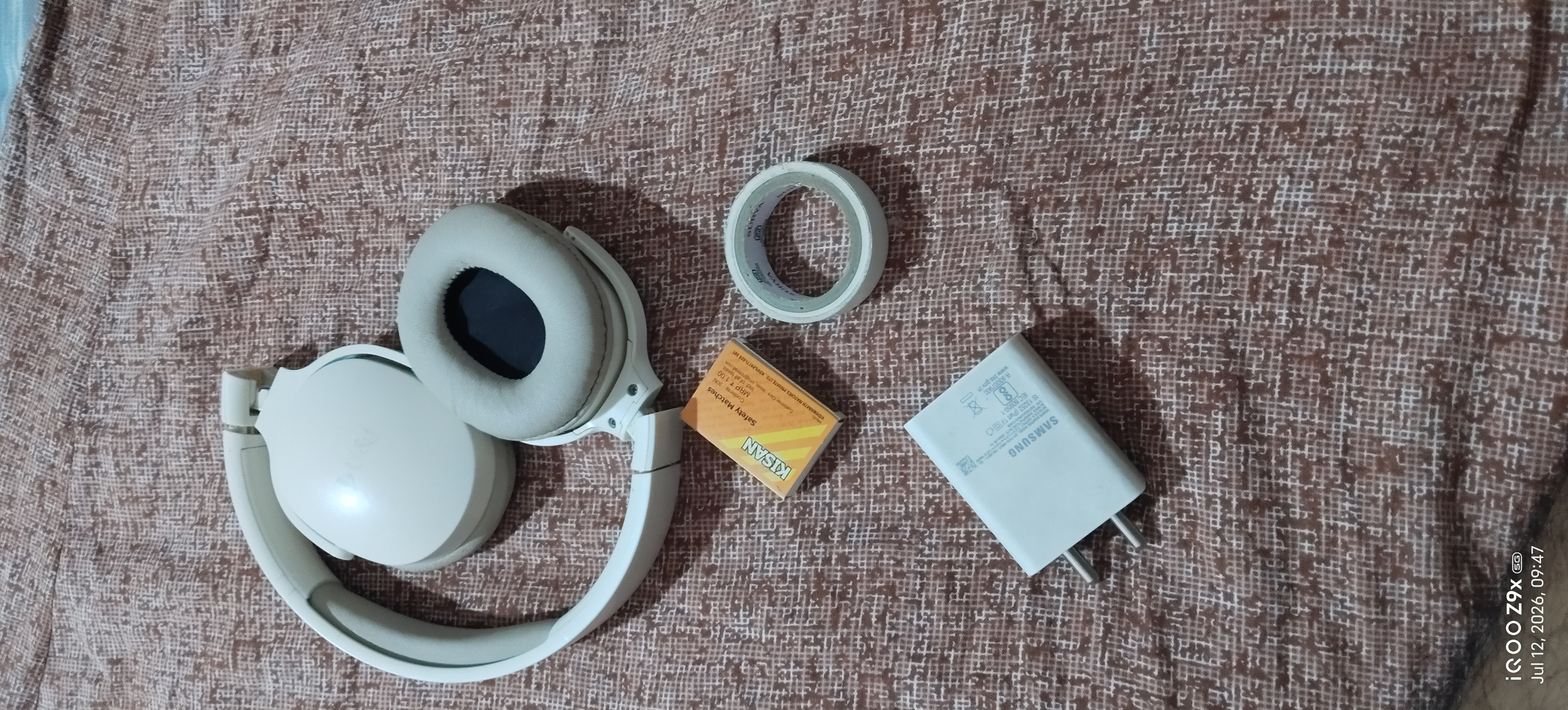charger: (900, 315, 1156, 611)
matchbox: (673, 322, 865, 523)
tape_roll: (713, 147, 900, 334)
